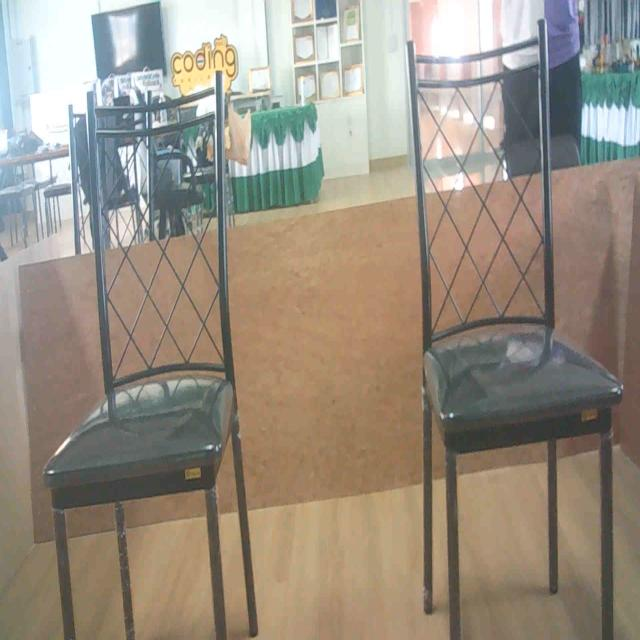empty: (402, 19, 604, 460), (40, 94, 236, 512)
